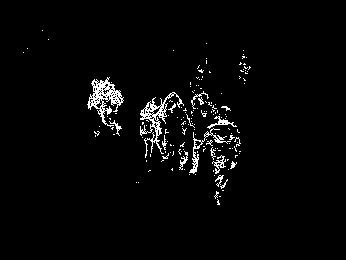person: (203, 105, 241, 204), (185, 91, 218, 173), (160, 92, 189, 170), (87, 78, 124, 138), (137, 96, 165, 161)
